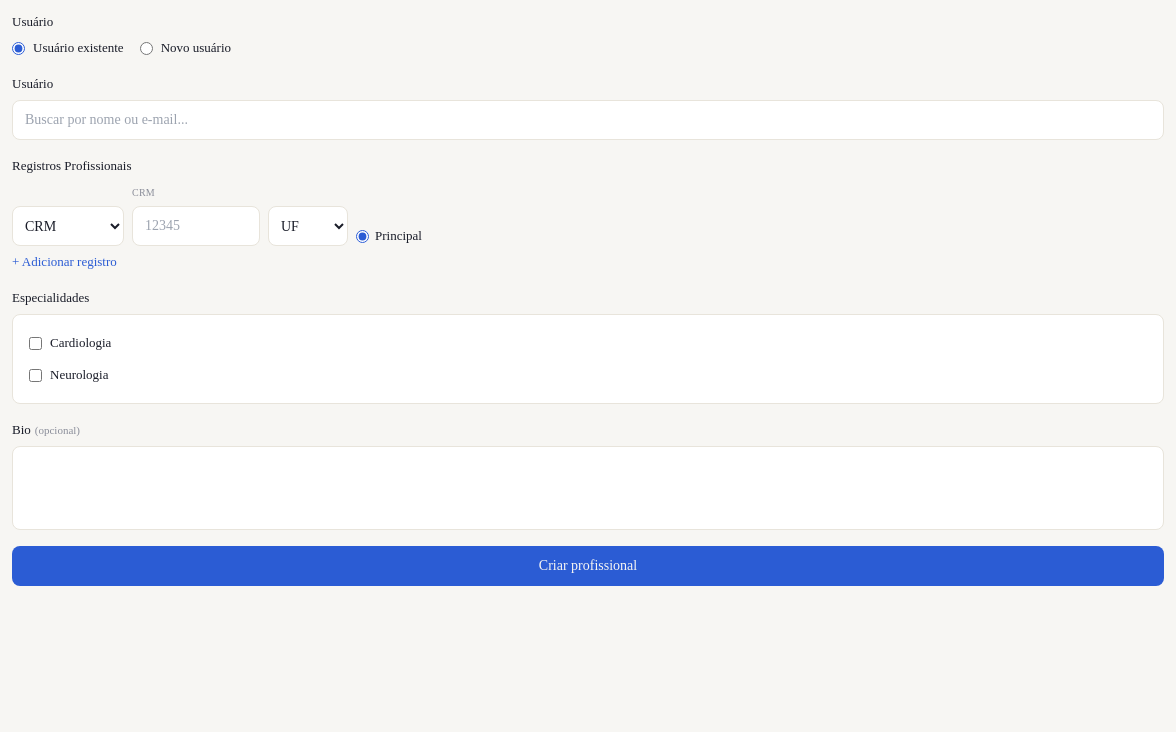
it: ProfessionalForm (integration) — create mode › switches back to existing user mode when existing radio is selected after switching to new
Click the radio button with test id "professional-form-user-mode-new" at x=146, y=48, box [140, 42, 153, 54]
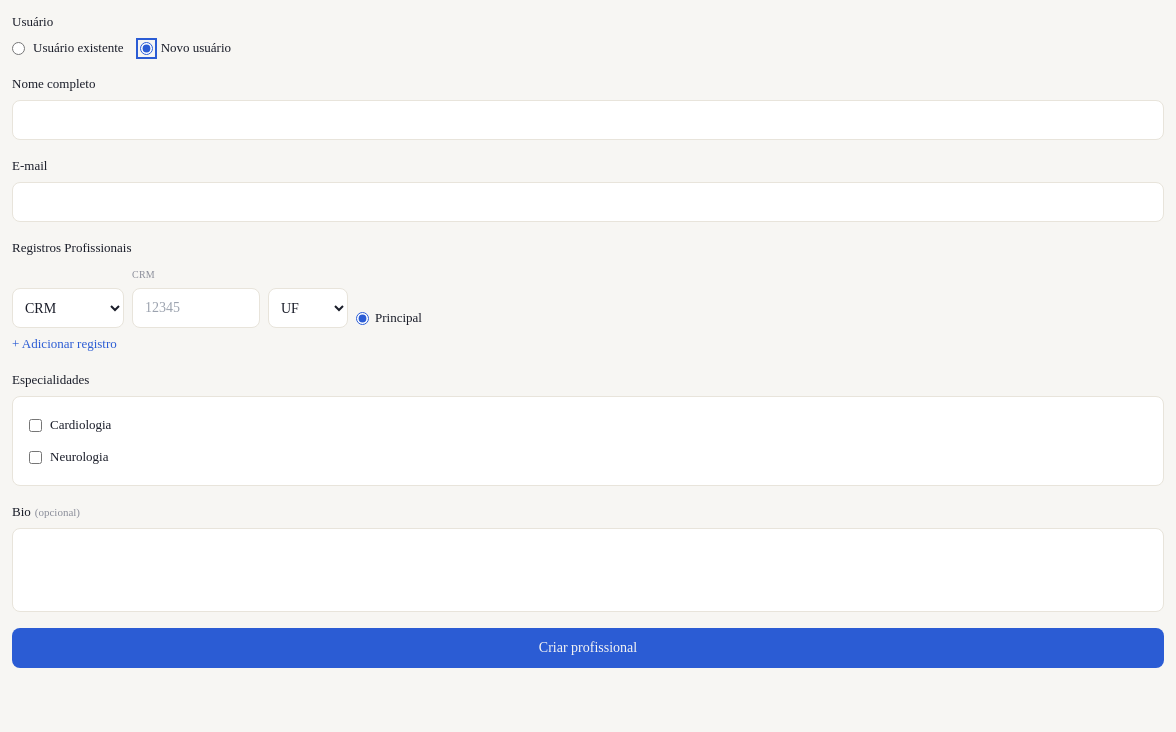
Now the field with test id "professional-form-fullname" is shown, box [12, 100, 1164, 140]
Click the radio button with test id "professional-form-user-mode-existing" at x=18, y=48, box [12, 42, 25, 54]
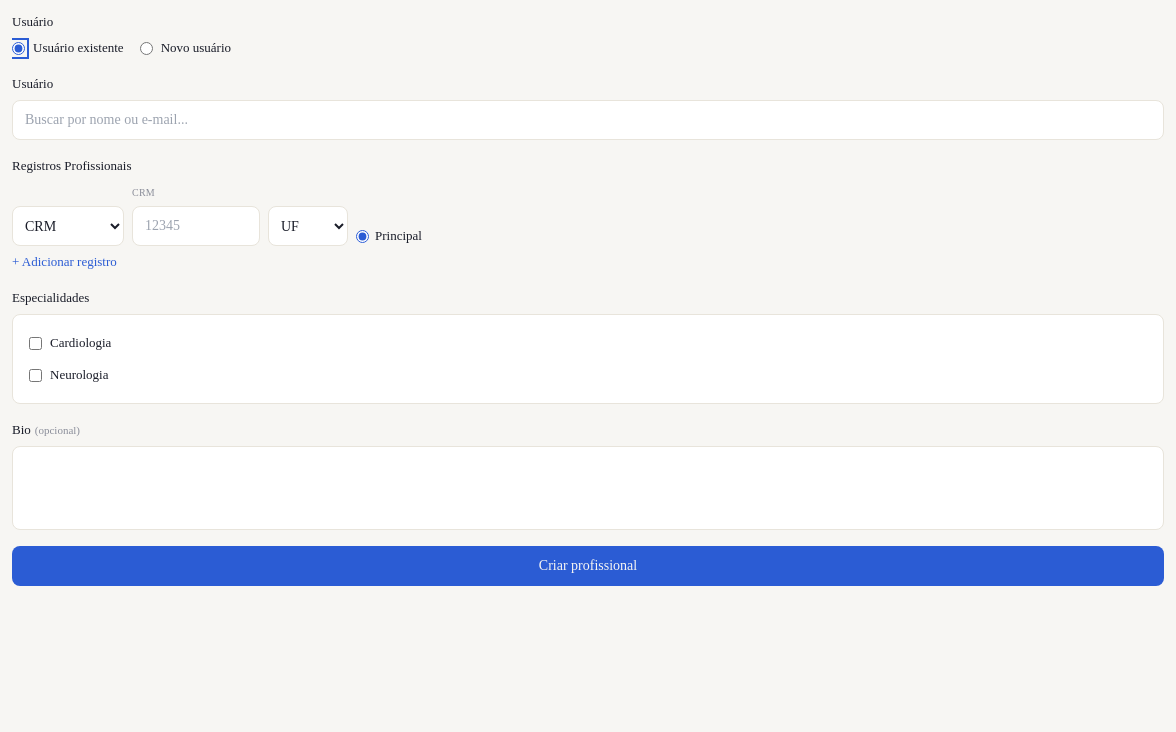
Now the field with test id "professional-form-fullname" is gone
Now the field with test id "professional-form-user-search" is shown, box [12, 100, 1164, 140]
